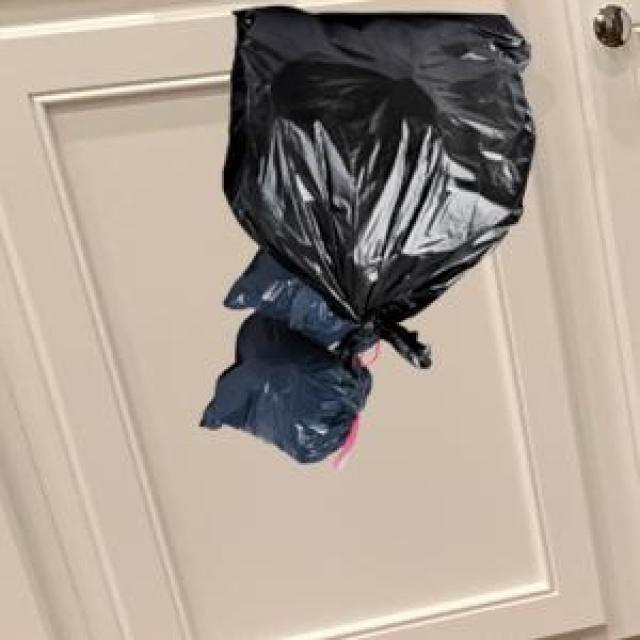waste: (200, 8, 535, 462)
